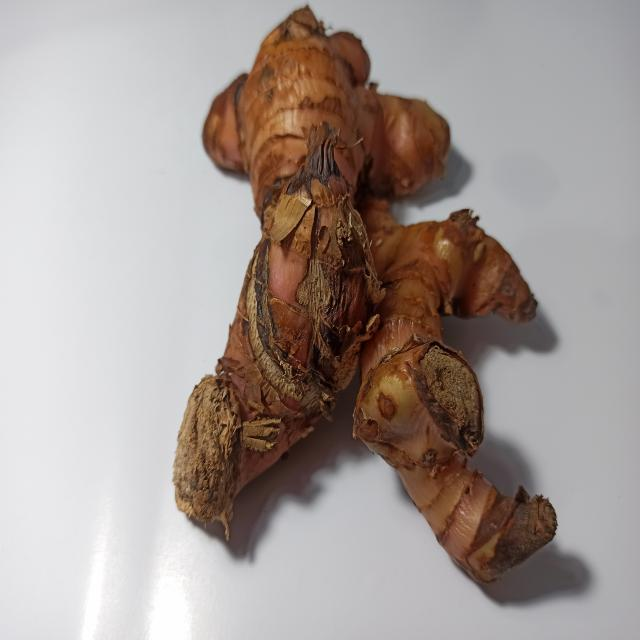ginger: (191, 32, 553, 584)
